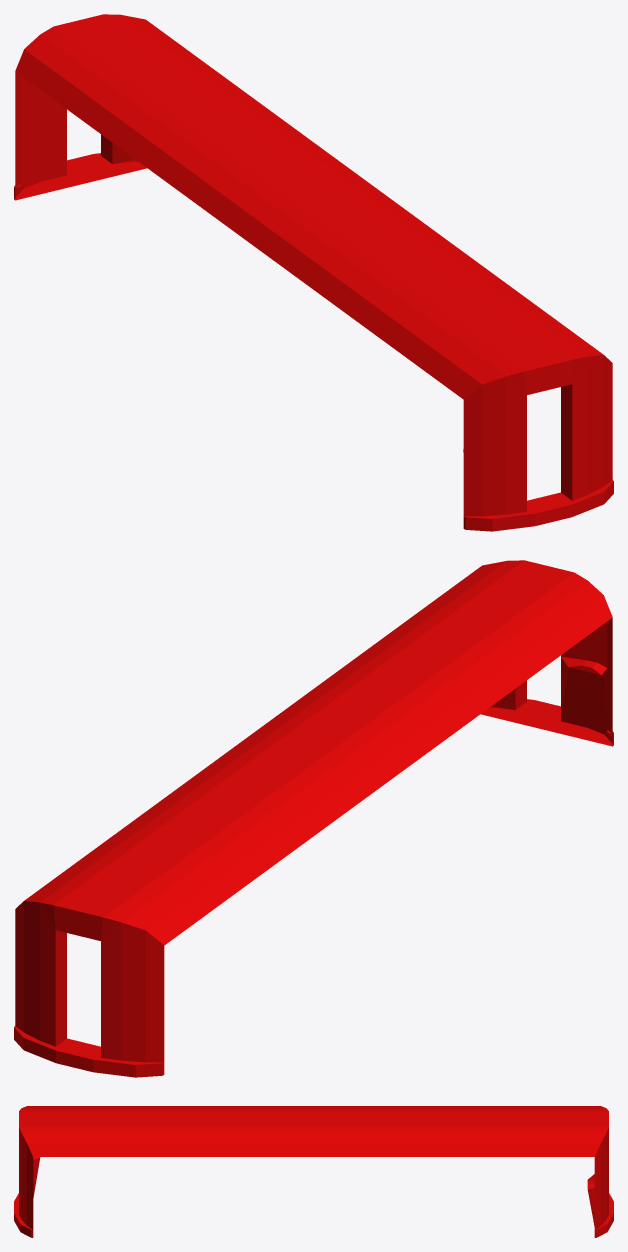
File: SW_VEH_Train_MainBody_Collision.fbx
The picture shows the model from 3 angles, top to bottom: view 1: azimuth 30°, elevation 25°; view 2: azimuth 150°, elevation 25°; view 3: azimuth 270°, elevation 25°; orthographic projection. The views are drawn at different scales.
Visible parts, largest first — view 1: SW_VEH_Train_MainBody_Collision; view 2: SW_VEH_Train_MainBody_Collision; view 3: SW_VEH_Train_MainBody_Collision.
Boxes of the visible parts, left/top/right/bottom form: SW_VEH_Train_MainBody_Collision: left=14, top=14, right=613, bottom=531; SW_VEH_Train_MainBody_Collision: left=14, top=560, right=613, bottom=1077; SW_VEH_Train_MainBody_Collision: left=14, top=1106, right=613, bottom=1237.
Size of the model in its own units: 2.61 by 2.57 by 14.52.
